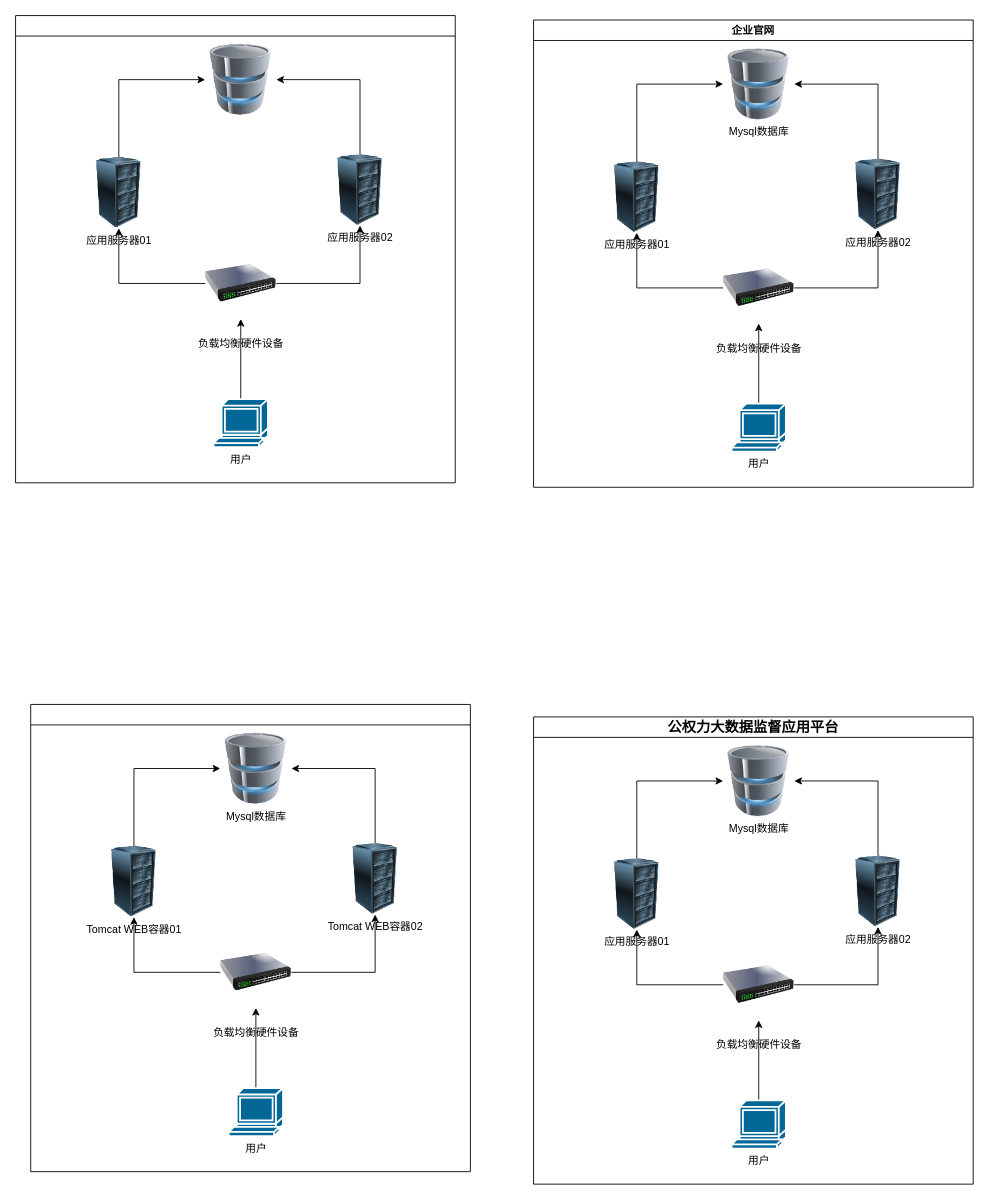
Some shapes in this 989 by 1200 pixel diagram are drawn without their labels. The box of each missing label's shape, as (x1, y1, x2, y2) in pixels:
Oracle数据库: (205, 44, 276, 115)
企业门户: (15, 15, 455, 483)
工团管理系统: (30, 704, 470, 1172)
